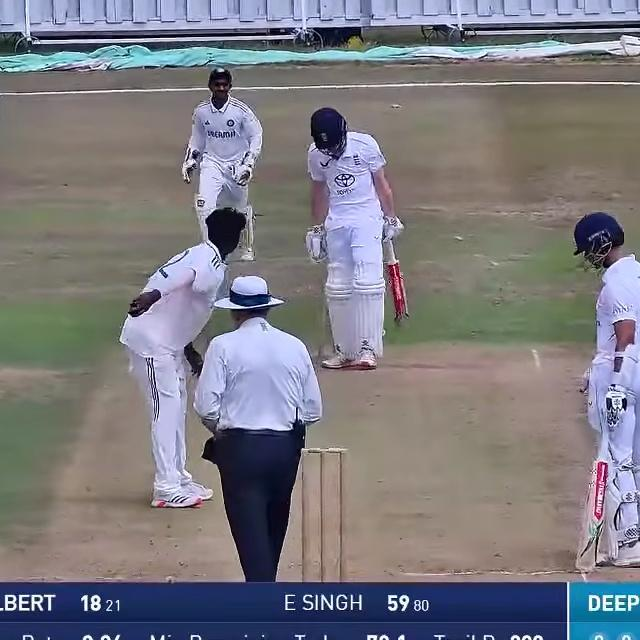umpire: (188, 267, 328, 583)
